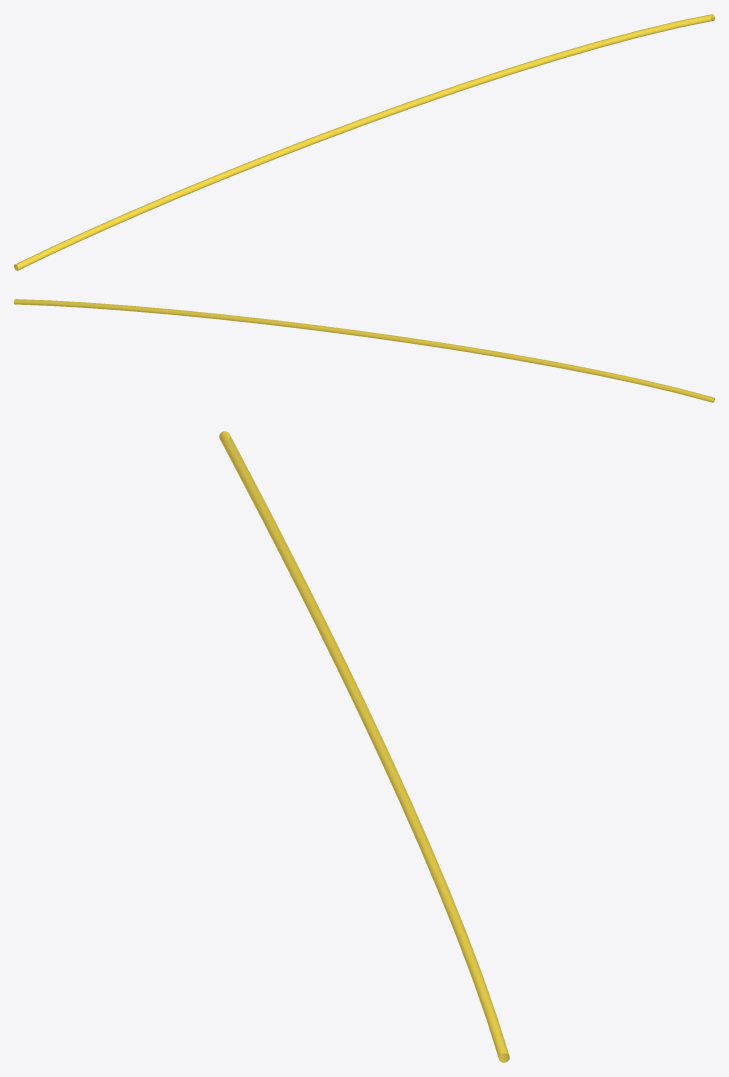
Rendered from Event_75125125_track_115.fbx.
3 views of the same model, one above another, from view 1: azimuth 30°, elevation 25°; view 2: azimuth 150°, elevation 25°; view 3: azimuth 270°, elevation 25° (orthographic). The views are drawn at different scales.
Visible parts, largest first — view 1: Model; view 2: Model; view 3: Model.
Part boxes in pixels (x1,y1,x2,y2): Model: [14, 14, 714, 270]; Model: [14, 299, 714, 402]; Model: [219, 431, 509, 1062].
Bounding box in the file's own units: 5.23 × 0.1891 × 1.05.
